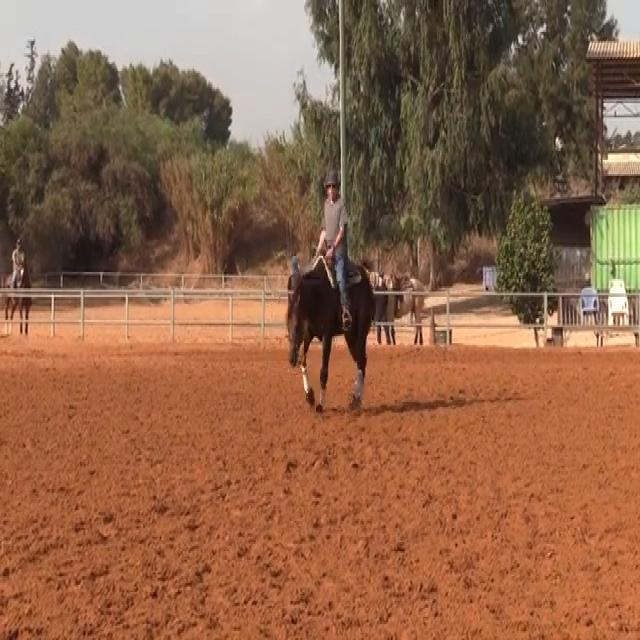horse: (284, 252, 377, 414)
